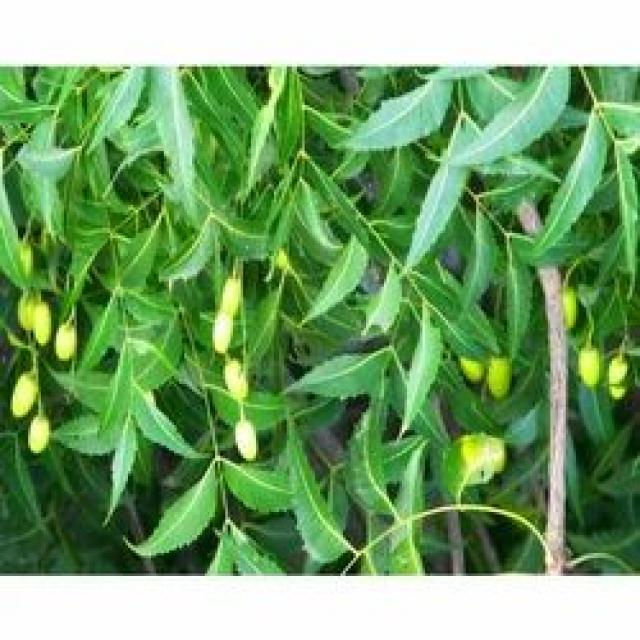Medicinal-Neem: (75, 73, 438, 568)
